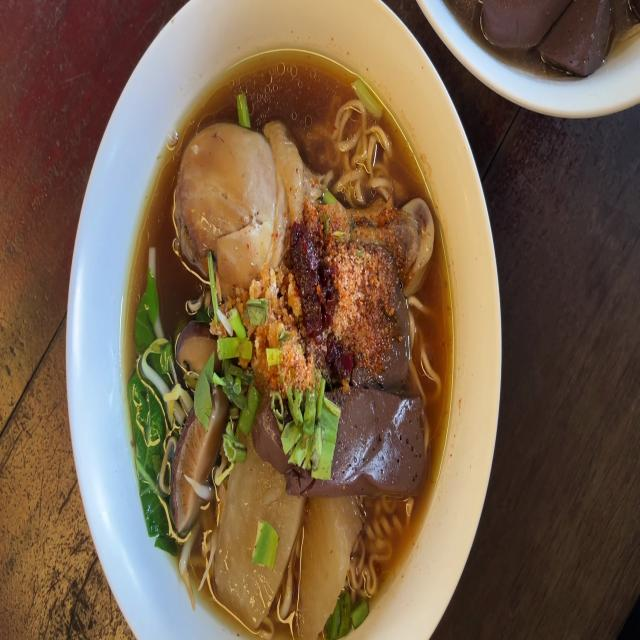boiled_chicken_blood_jelly: (330, 388, 426, 493), (486, 0, 640, 65)
chicken_drumstick: (174, 117, 434, 293)
daikon_radish: (218, 477, 374, 640)
noodle: (134, 56, 464, 640)
